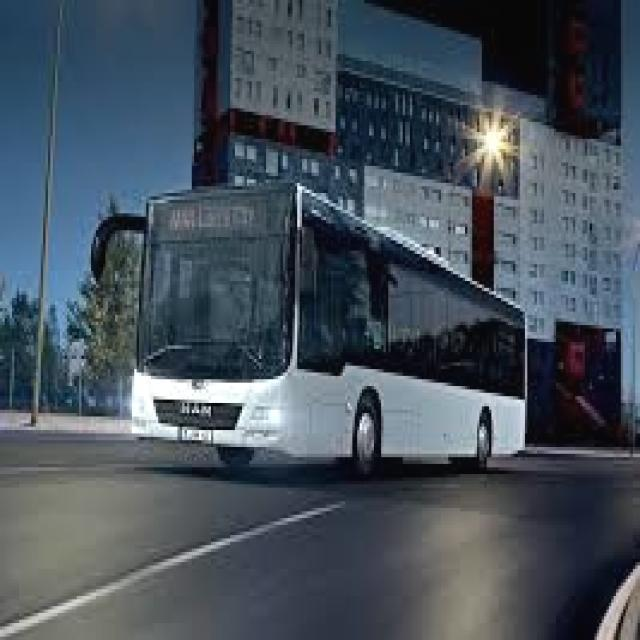Bus: (129, 186, 530, 467)
